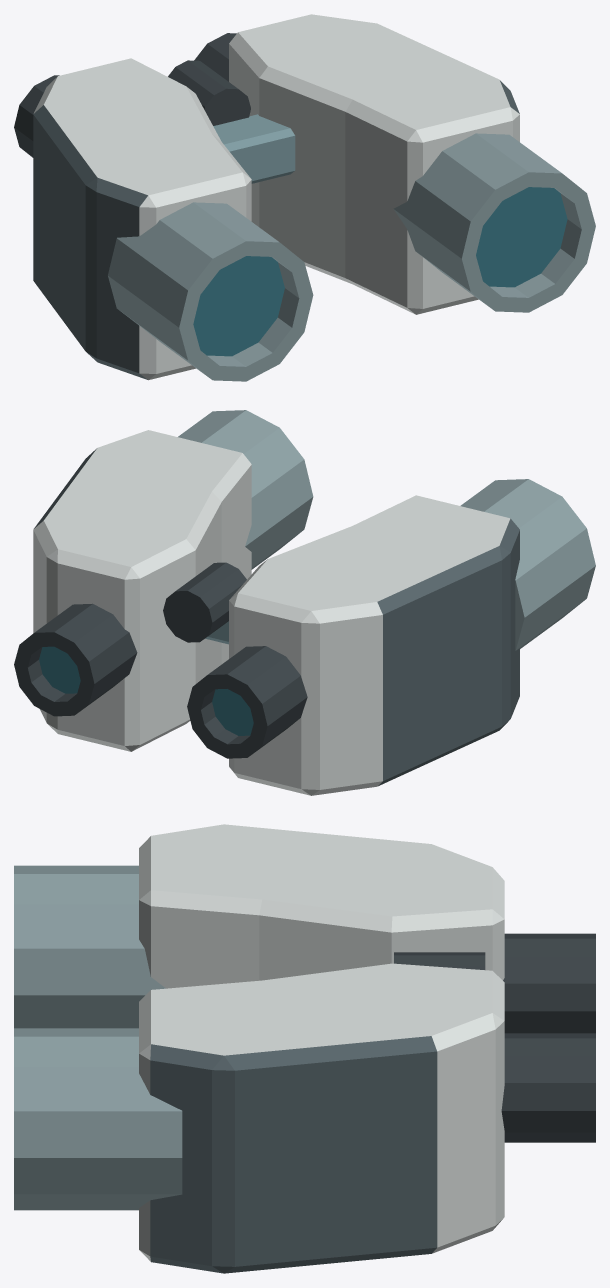
3 views of the same model, one above another, from view 1: azimuth 30°, elevation 25°; view 2: azimuth 150°, elevation 25°; view 3: azimuth 270°, elevation 25° (orthographic). The views are drawn at different scales.
Visible parts, largest first — view 1: Right offset prism body, Left offset prism body, Left recessed objective housing, Right recessed objective housing, Left inset objective disc, Right inset objective disc, Central fixed bridge, Static focus drum, Left deep eyecup, Right deep eyecup; view 2: Left offset prism body, Right offset prism body, Left recessed objective housing, Right recessed objective housing, Right deep eyecup, Left deep eyecup, Static focus drum, Right inset ocular disc, Left inset ocular disc; view 3: Right offset prism body, Left offset prism body, Right recessed objective housing, Left recessed objective housing, Right deep eyecup, Left deep eyecup, Static focus drum.
Boxes of the visible parts, <box> form: Right offset prism body: <box>229,14,519,314</box>; Left offset prism body: <box>33,58,251,380</box>; Left recessed objective housing: <box>108,202,313,381</box>; Right recessed objective housing: <box>393,133,595,312</box>; Left inset objective disc: <box>193,256,284,356</box>; Right inset objective disc: <box>476,187,567,287</box>; Central fixed bridge: <box>213,114,295,183</box>; Static focus drum: <box>168,60,250,125</box>; Left deep eyecup: <box>14,75,59,157</box>; Right deep eyecup: <box>194,33,236,81</box>; Left offset prism body: <box>229,495,519,795</box>; Right offset prism body: <box>33,430,251,751</box>; Left recessed objective housing: <box>460,479,595,650</box>; Right recessed objective housing: <box>178,410,313,569</box>; Right deep eyecup: <box>14,603,137,716</box>; Left deep eyecup: <box>187,646,307,758</box>; Static focus drum: <box>163,562,246,642</box>; Right inset ocular disc: <box>39,646,80,693</box>; Left inset ocular disc: <box>212,689,253,735</box>; Right offset prism body: <box>139,963,504,1273</box>; Left offset prism body: <box>139,824,504,988</box>; Right recessed objective housing: <box>14,1028,182,1210</box>; Left recessed objective housing: <box>14,865,165,1028</box>; Right deep eyecup: <box>501,1033,595,1142</box>; Left deep eyecup: <box>503,933,595,1033</box>; Static focus drum: <box>394,952,485,969</box>.
Bounding box in the file's own units: 0.236 × 0.1 × 0.242.
